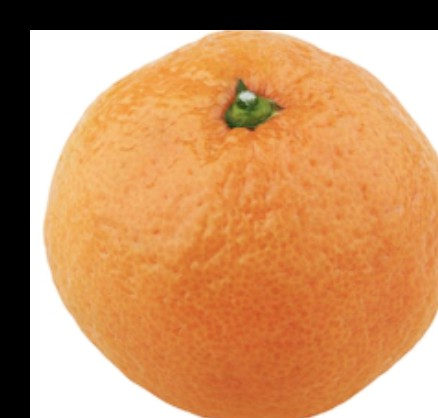fresh_orange: (46, 31, 438, 418)
